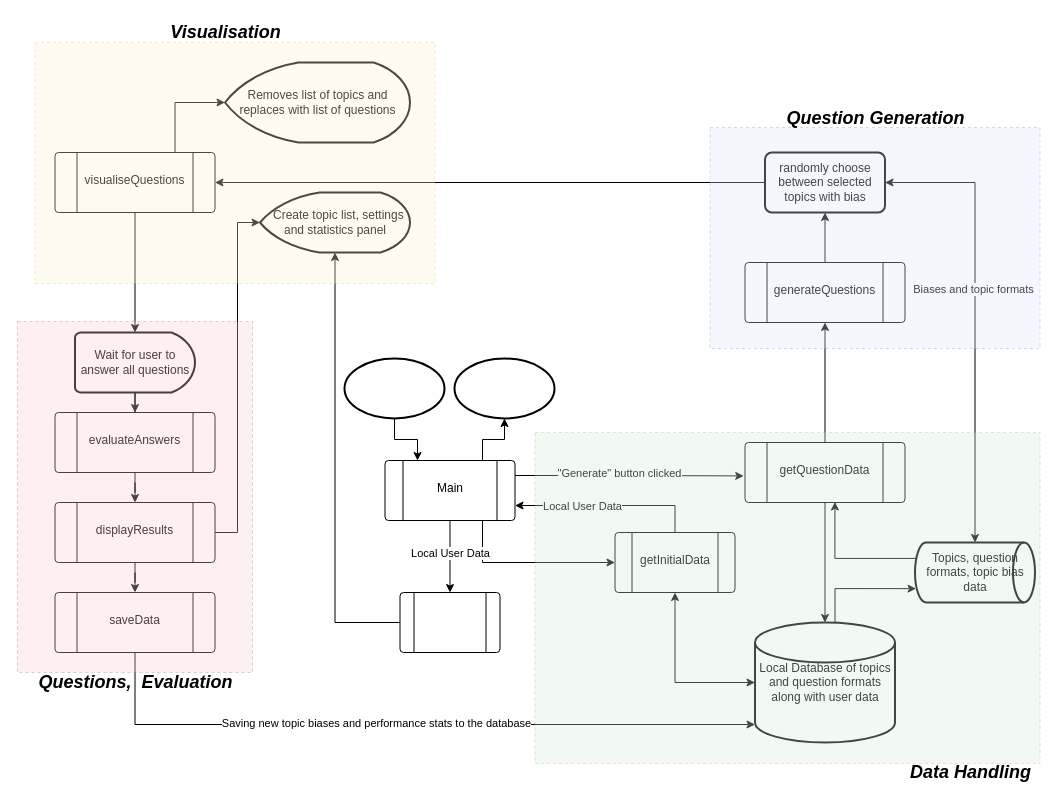
This 1058x804 diagram has some shape labels left out. Here are the shapes that lost their labels. From the top down, the centre of each, then its label:
the point at 394,388: Start
the point at 504,388: End
the point at 449,622: initialiseUI
